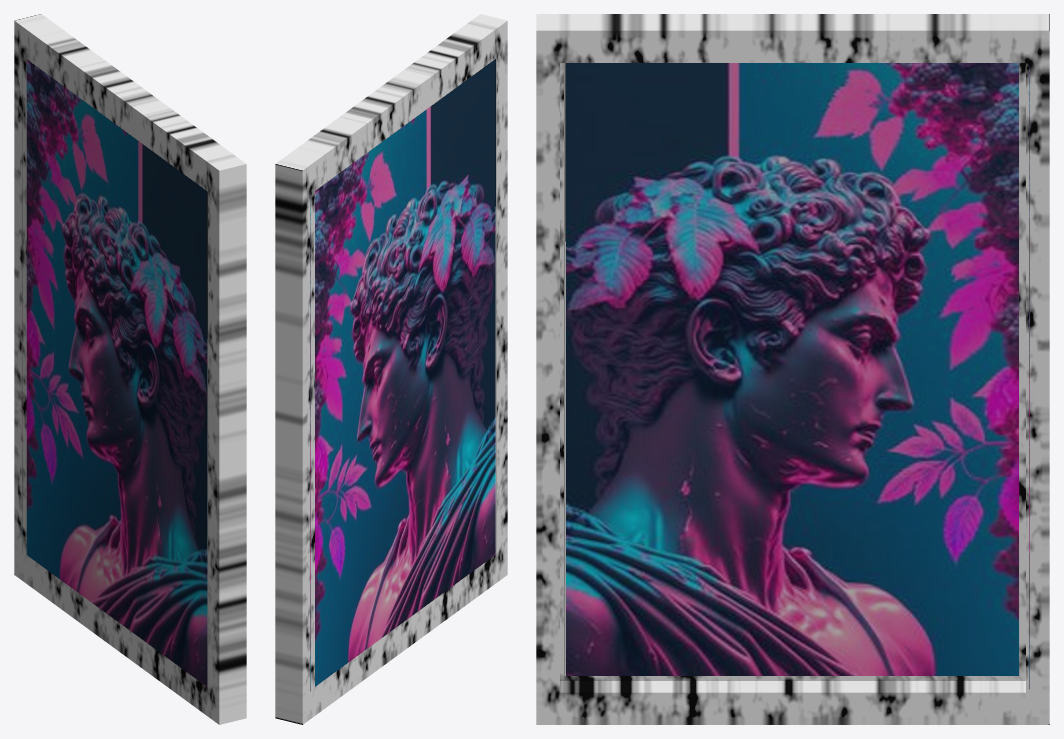
Rendered from poster 1.fbx.
The picture shows the model from 3 angles, left to right: view 1: azimuth 30°, elevation 25°; view 2: azimuth 150°, elevation 25°; view 3: azimuth 270°, elevation 25°; orthographic projection. The views are drawn at different scales.
Parts seen in each view (by area): view 1: poster; view 2: poster; view 3: poster.
Boxes of the visible parts, x1,y1,x2,y2 form: poster: (14,14,246,724); poster: (275,14,507,724); poster: (536,14,1049,724).
Size of the model in its own units: 6.15 by 119 by 80.02.
1 material, 1 textured.
